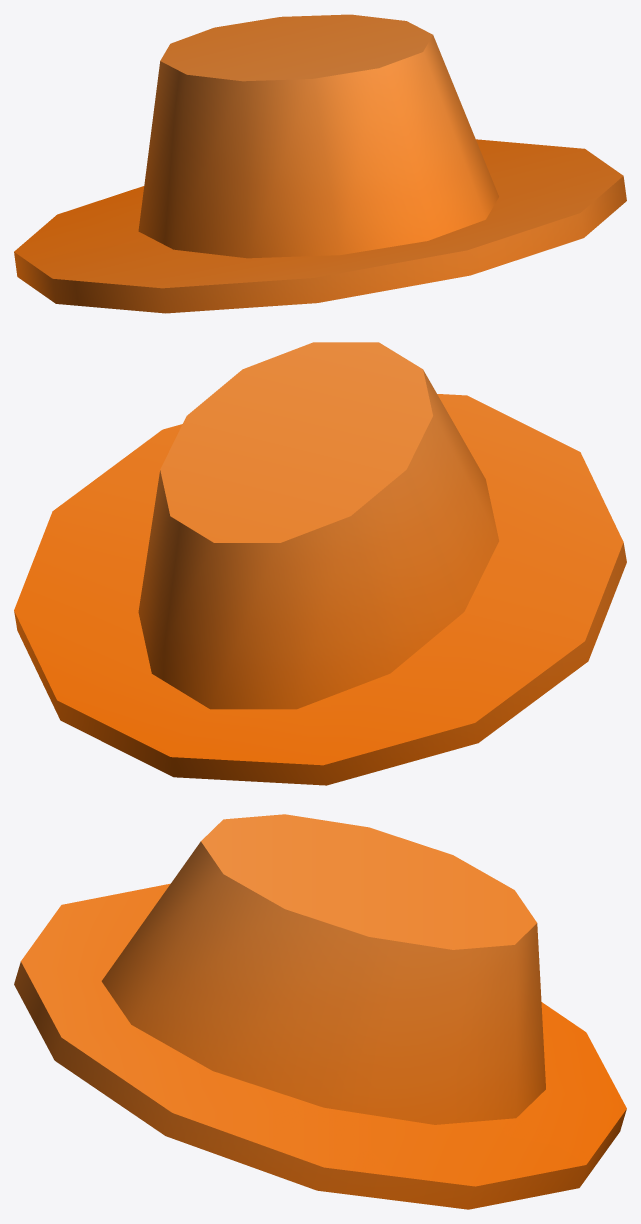
Rendered from Head_Prop_Hat_01.fbx.
The picture shows the model from 3 angles, top to bottom: view 1: azimuth 30°, elevation 25°; view 2: azimuth 150°, elevation 25°; view 3: azimuth 270°, elevation 25°; orthographic projection. The views are drawn at different scales.
Parts seen in each view (by area): view 1: Head_Prop_Hat_01; view 2: Head_Prop_Hat_01; view 3: Head_Prop_Hat_01.
Boxes of the visible parts, x1,y1,x2,y2 form: Head_Prop_Hat_01: (14,14,626,313); Head_Prop_Hat_01: (14,342,626,785); Head_Prop_Hat_01: (14,814,626,1209).
Bounding box in the file's own units: 175 × 89.58 × 171.
